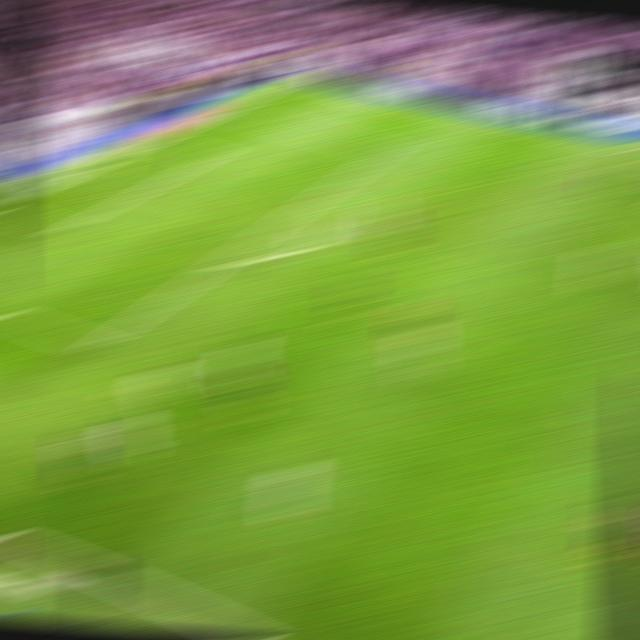bigarea_bottom_inner: (78, 333, 114, 356)
bigarea_top_inner: (375, 145, 402, 154)
bigarea_top_outter: (214, 106, 242, 114)
bottom_arc_area_intersection: (208, 251, 240, 269)
corner: (284, 78, 312, 82)
smallarea_top_inner: (197, 154, 224, 160)
top_arc_area_intersection: (310, 189, 337, 197)
